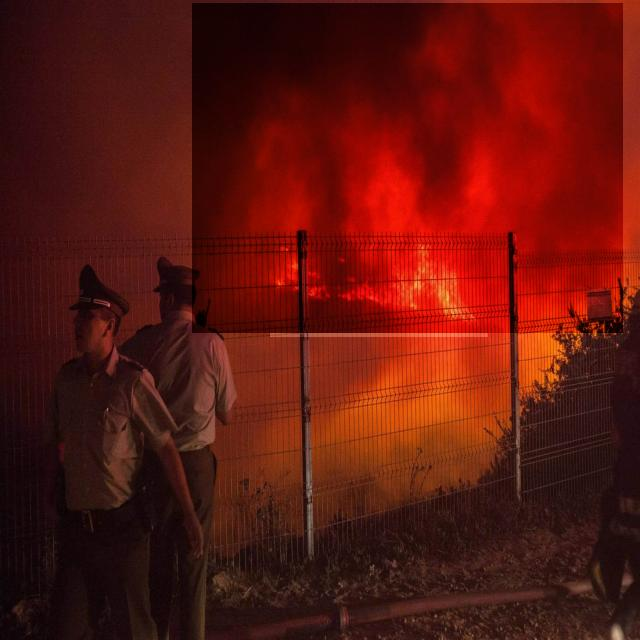Fire: (270, 238, 488, 337)
Smoke: (192, 3, 623, 333)
